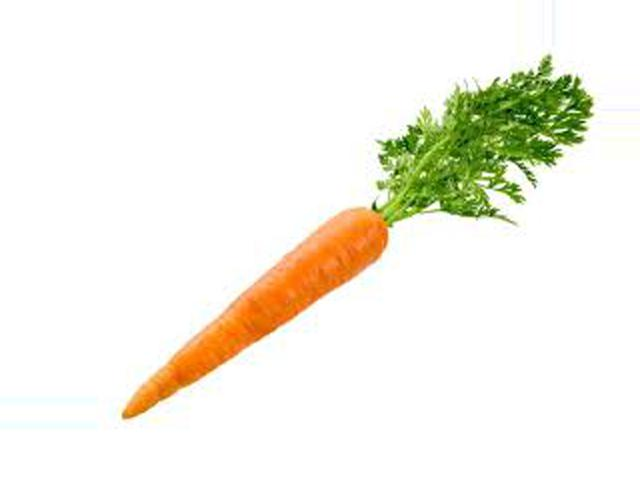carrot: (108, 197, 404, 423)
